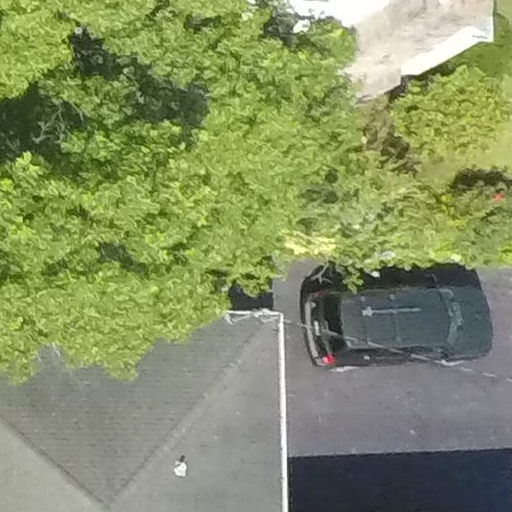car: (297, 254, 502, 390)
